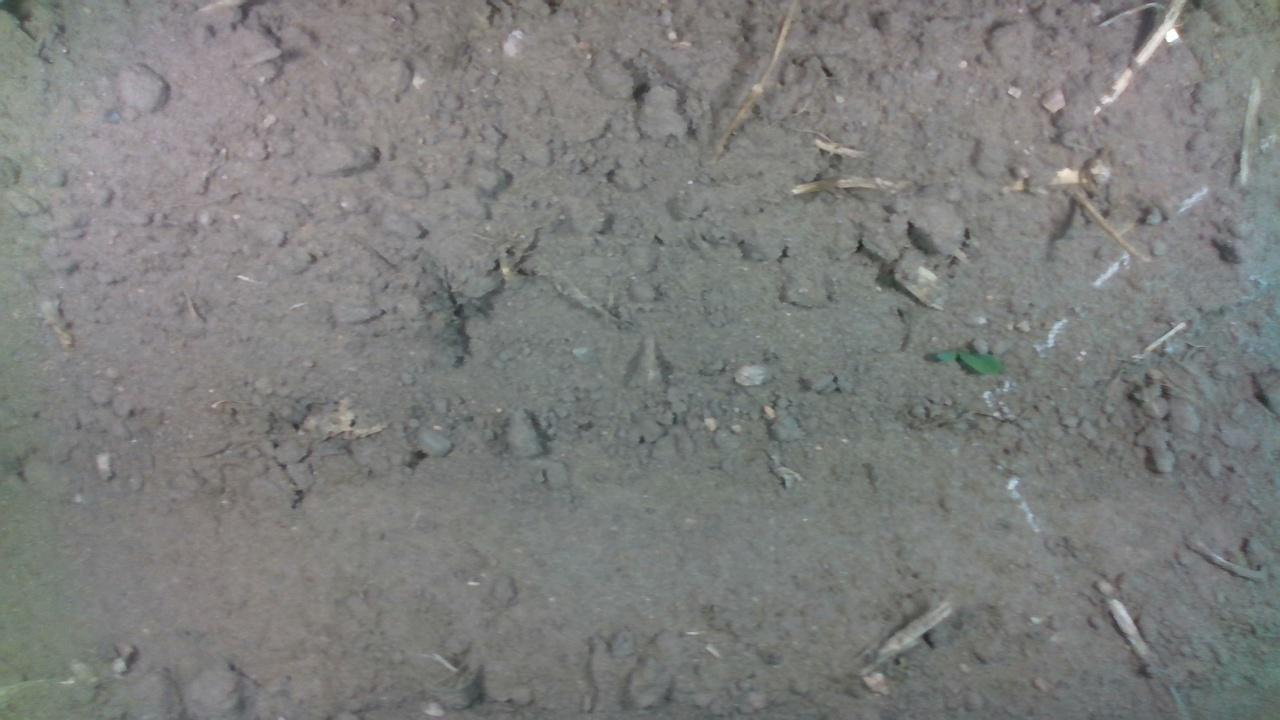weed: (932, 344, 1005, 376)
